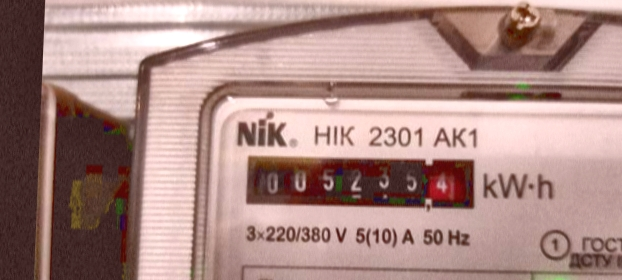0: (264, 168, 280, 194), (292, 167, 308, 192)
2: (347, 165, 364, 192)
3: (374, 163, 392, 189)
4: (432, 166, 451, 195)
5: (402, 164, 419, 192), (320, 165, 335, 191)
screen: (232, 139, 485, 221)
